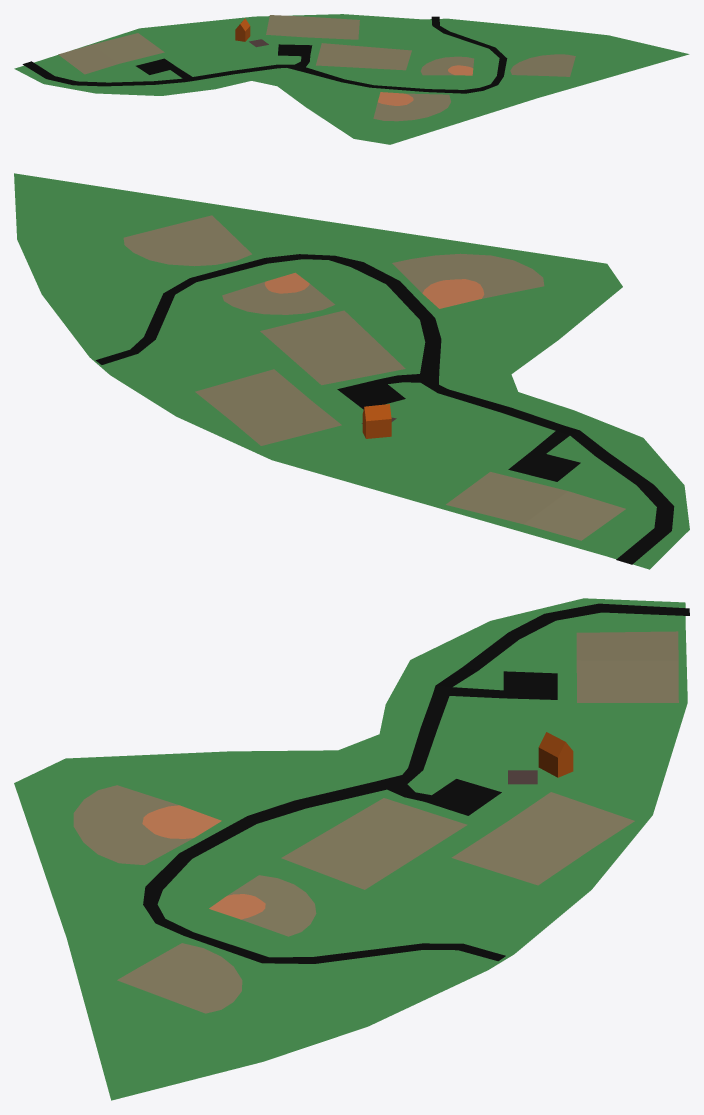
The model's file is broadneckpark9.glb.
The picture shows the model from 3 angles, top to bottom: view 1: azimuth 30°, elevation 25°; view 2: azimuth 150°, elevation 25°; view 3: azimuth 270°, elevation 25°; orthographic projection. The views are drawn at different scales.
Visible parts, largest first — view 1: BroadneckPark.001; view 2: BroadneckPark.001; view 3: BroadneckPark.001.
Part boxes in pixels (x1=…): BroadneckPark.001: x1=14, y1=14, x2=689, y2=144; BroadneckPark.001: x1=14, y1=173, x2=689, y2=569; BroadneckPark.001: x1=14, y1=598, x2=689, y2=1100.
Bounding box in the file's own units: 1.11 × 0.0635 × 0.6441.
